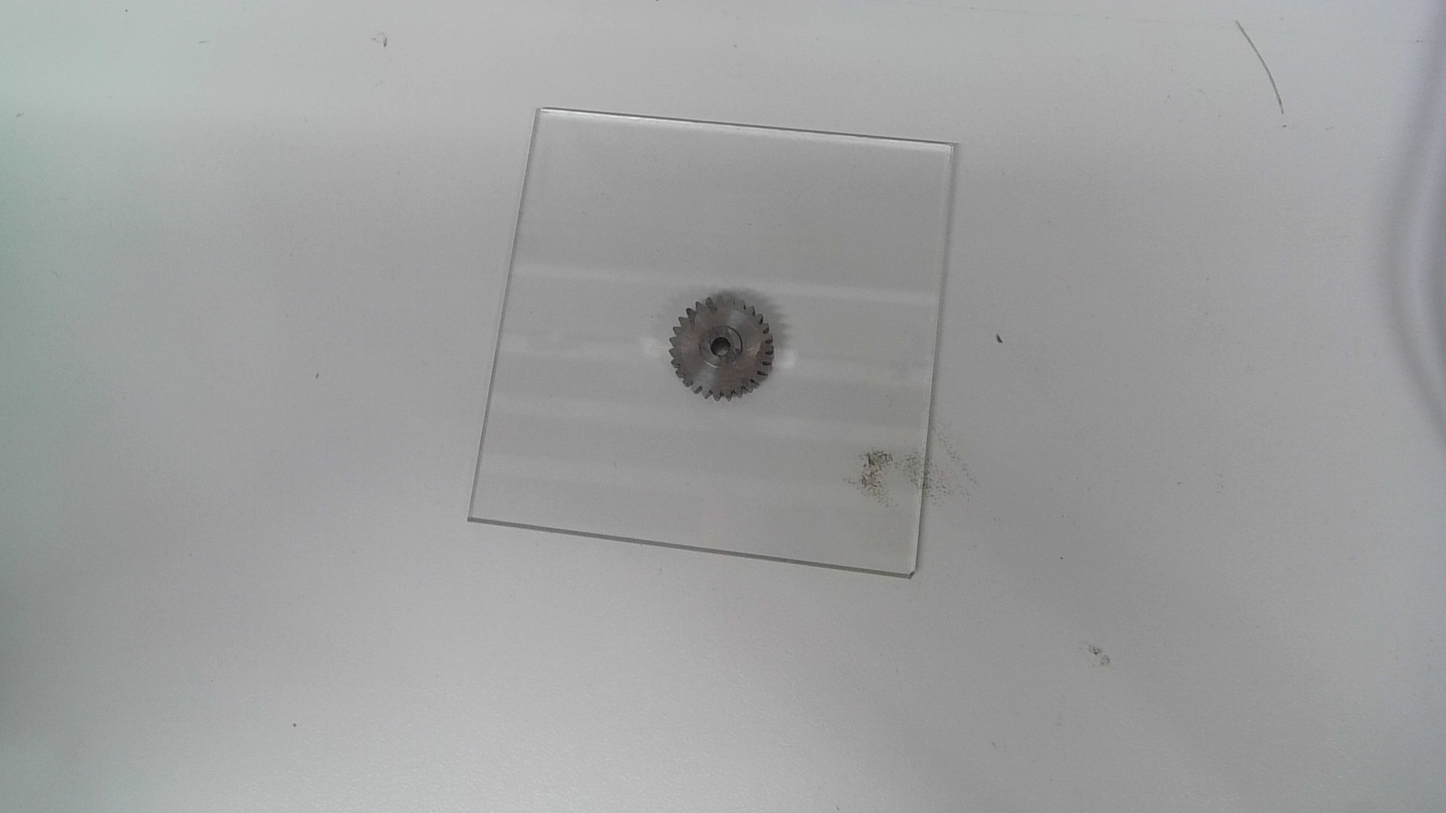gear: (667, 290, 777, 405)
